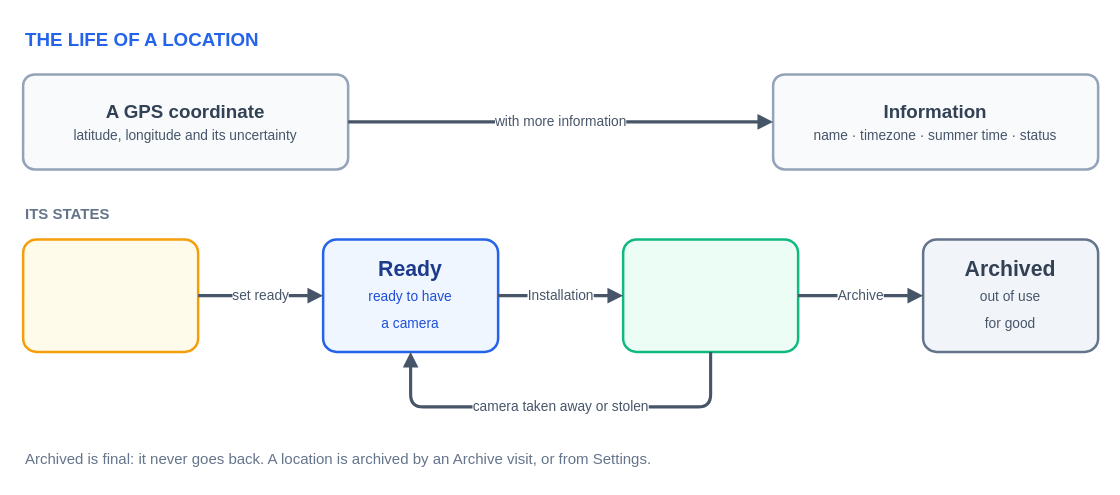
This 1120x495 diagram has some shape labels left out. The box of each missing label's shape, as (x1, y1, x2, y2) in pixels:
Active it has a camera: (621, 238, 799, 352)
Planned only in Settings: not in the app: (21, 238, 199, 352)
